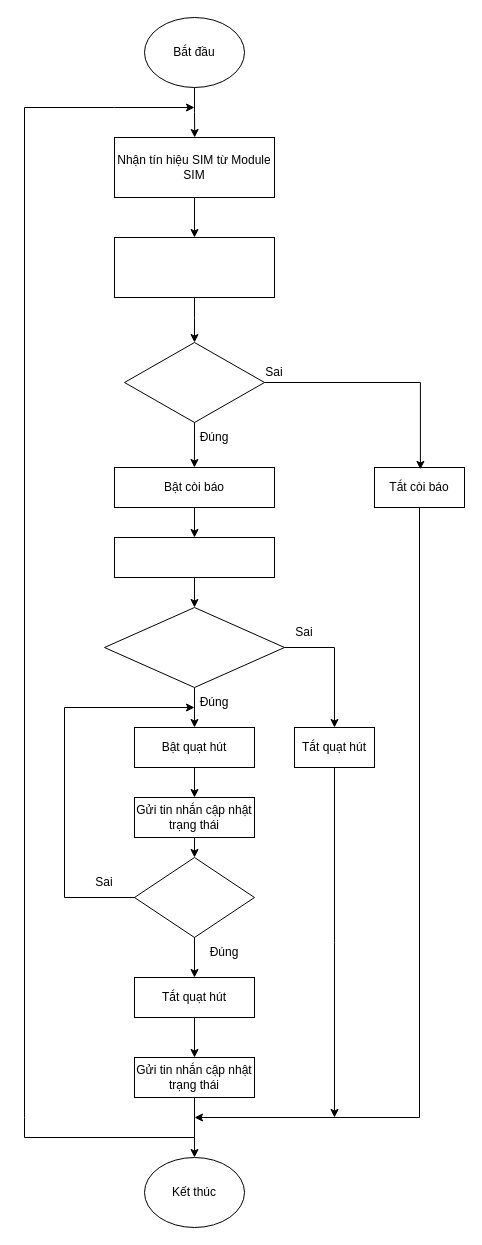
Some shapes in this 482 by 1245 pixel diagram are drawn without their labels. Each missing label, with the centre of its shape:
Gửi tin nhắn cảnh báo: the point at 194,557
Khói < Ngưỡng ?: the point at 194,897
Khói > Ngưỡng ?: the point at 194,382
Thời gian có khói > 3 giây ?: the point at 194,647
Đọc dữ liệu từ cảm biến MQ2: the point at 194,267
